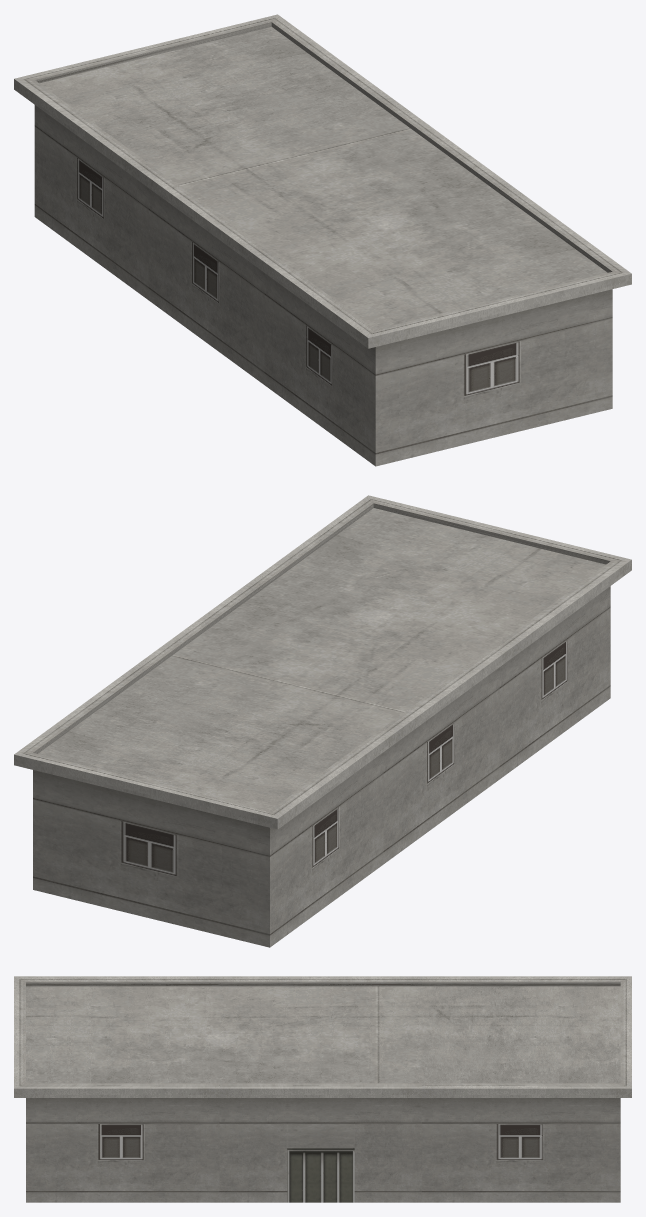
The model's file is 小泵房.obj.
3 renders of one model, top to bottom at view 1: azimuth 30°, elevation 25°; view 2: azimuth 150°, elevation 25°; view 3: azimuth 270°, elevation 25°, orthographic. The views are drawn at different scales.
Visible parts, largest first — view 1: Box056; view 2: Box056; view 3: Box056.
Boxes of the visible parts, left/top/right/bottom form: Box056: left=14, top=14, right=631, bottom=466; Box056: left=14, top=495, right=631, bottom=947; Box056: left=14, top=976, right=631, bottom=1202.
Size of the model in its own units: 13.71 by 6.81 by 31.9.
